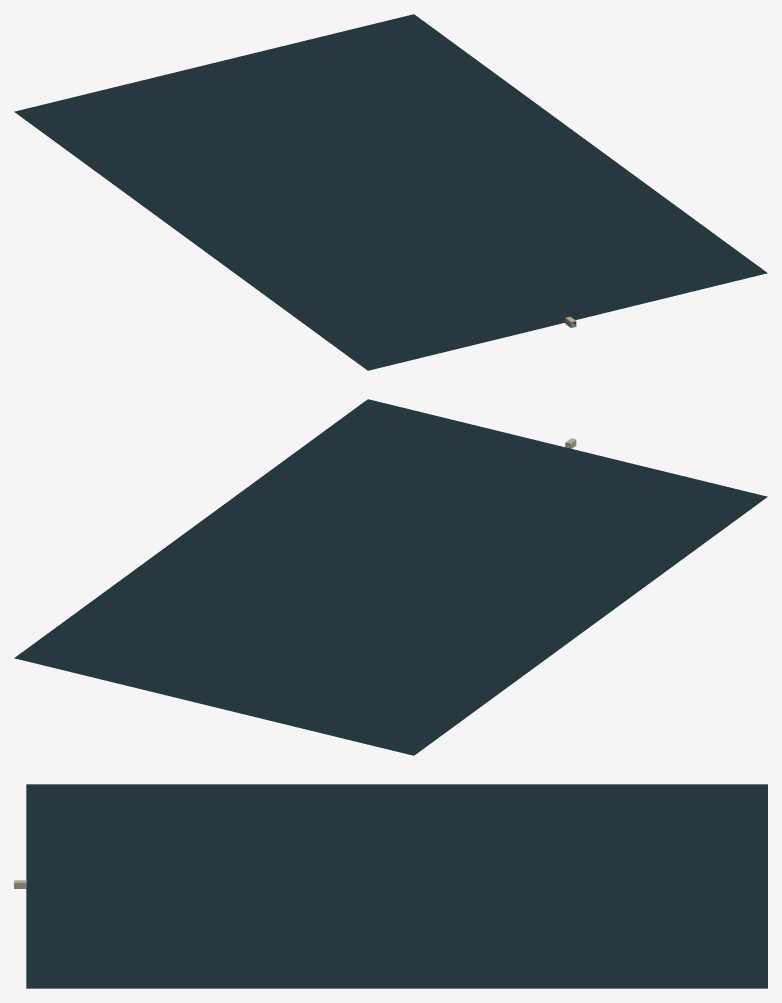
Rendered from Vestibulo_Inundado.fbx.
3 views of the same model, one above another, from view 1: azimuth 30°, elevation 25°; view 2: azimuth 150°, elevation 25°; view 3: azimuth 270°, elevation 25° (orthographic). The views are drawn at different scales.
Visible parts, largest first — view 1: GEO-DREAM-oceanwater-ocean; view 2: GEO-DREAM-oceanwater-ocean; view 3: GEO-DREAM-oceanwater-ocean.
Boxes of the visible parts, x1,y1,x2,y2 form: GEO-DREAM-oceanwater-ocean: (14, 14, 767, 370); GEO-DREAM-oceanwater-ocean: (14, 399, 767, 755); GEO-DREAM-oceanwater-ocean: (26, 784, 767, 988).
Bounding box in the file's own units: 300 × 4.27 × 467.
